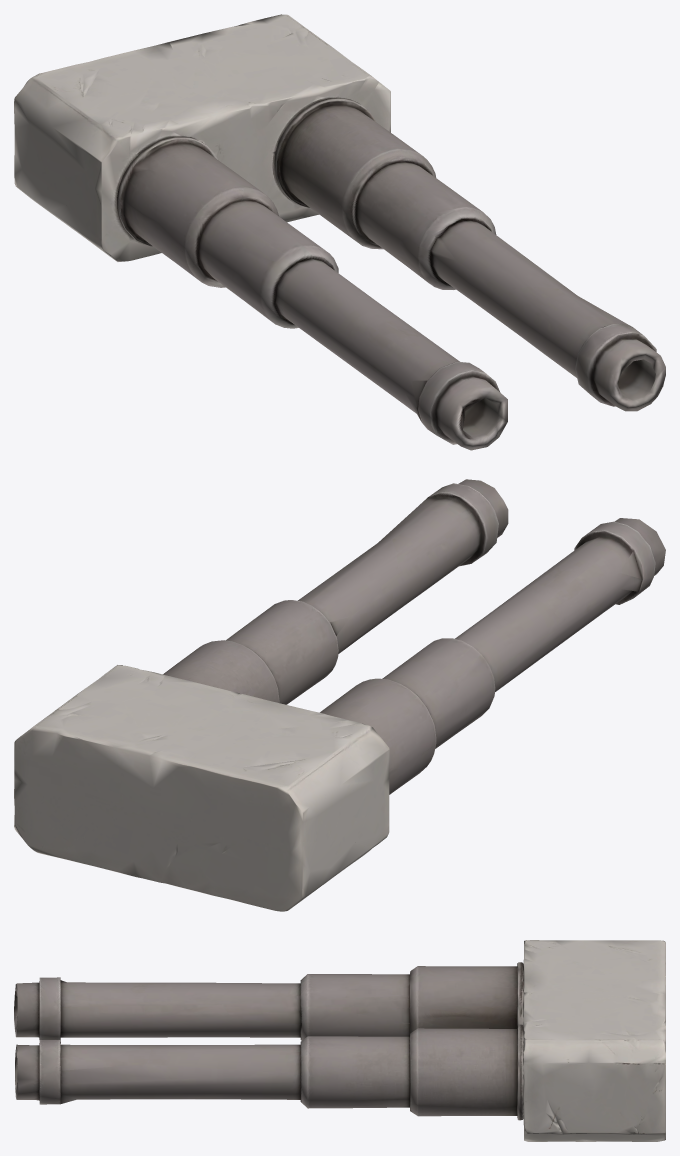
File: twinBarrel.glb
3 views of the same model, one above another, from view 1: azimuth 30°, elevation 25°; view 2: azimuth 150°, elevation 25°; view 3: azimuth 270°, elevation 25° (orthographic). The views are drawn at different scales.
Visible parts, largest first — view 1: tripo_node_f50f6519-2e48-47ca-bb19-c24f2b29ae95; view 2: tripo_node_f50f6519-2e48-47ca-bb19-c24f2b29ae95; view 3: tripo_node_f50f6519-2e48-47ca-bb19-c24f2b29ae95.
Part boxes in pixels (box(x1,y1,x2,y2)): tripo_node_f50f6519-2e48-47ca-bb19-c24f2b29ae95: box(14, 14, 665, 450); tripo_node_f50f6519-2e48-47ca-bb19-c24f2b29ae95: box(14, 479, 665, 911); tripo_node_f50f6519-2e48-47ca-bb19-c24f2b29ae95: box(14, 940, 665, 1141).
Size of the model in its own units: 4.72 by 1.95 by 11.3.
Materials: 1 (1 with a texture image).
